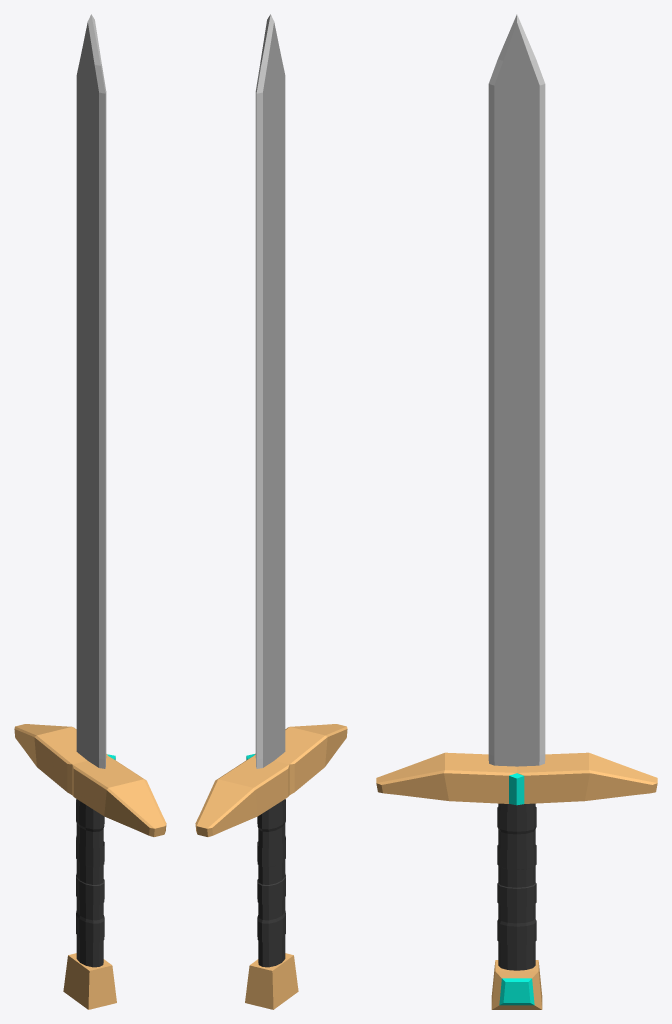
The model's file is OldSword.glb.
3 views of the same model, side by side, from view 1: azimuth 30°, elevation 25°; view 2: azimuth 150°, elevation 25°; view 3: azimuth 270°, elevation 25° (orthographic).
Visible parts, largest first — view 1: Old Sword; view 2: Old Sword; view 3: Old Sword.
Boxes of the visible parts, x1,y1,x2,y2 form: Old Sword: [14, 14, 166, 1009]; Old Sword: [195, 14, 347, 1009]; Old Sword: [376, 14, 657, 1009].
Bounding box in the file's own units: 556 × 11587 × 2986.
